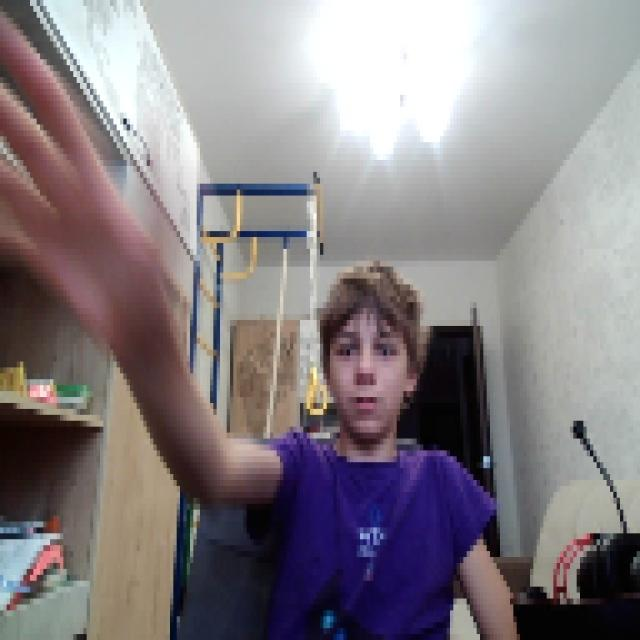hand: (0, 0, 137, 308)
